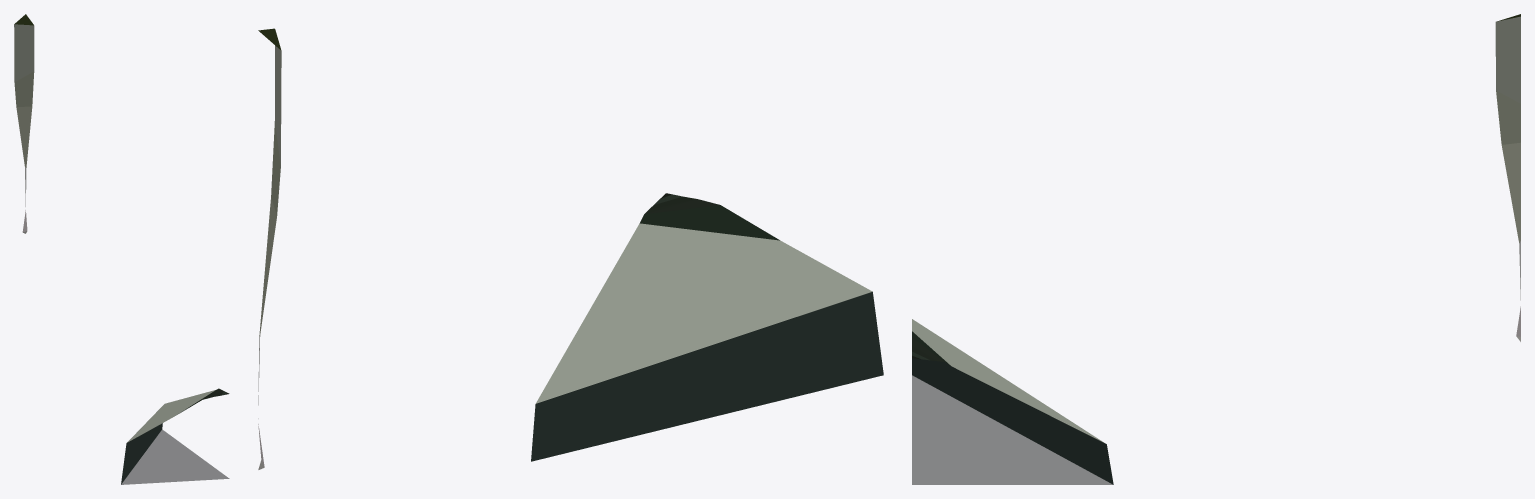
3 renders of one model, left to right at view 1: azimuth 30°, elevation 25°; view 2: azimuth 150°, elevation 25°; view 3: azimuth 270°, elevation 25°, orthographic. The views are drawn at different scales.
Bounding box in the file's own units: 1.21 × 3.36 × 3.93.
Materials: 1 (1 with a texture image).
